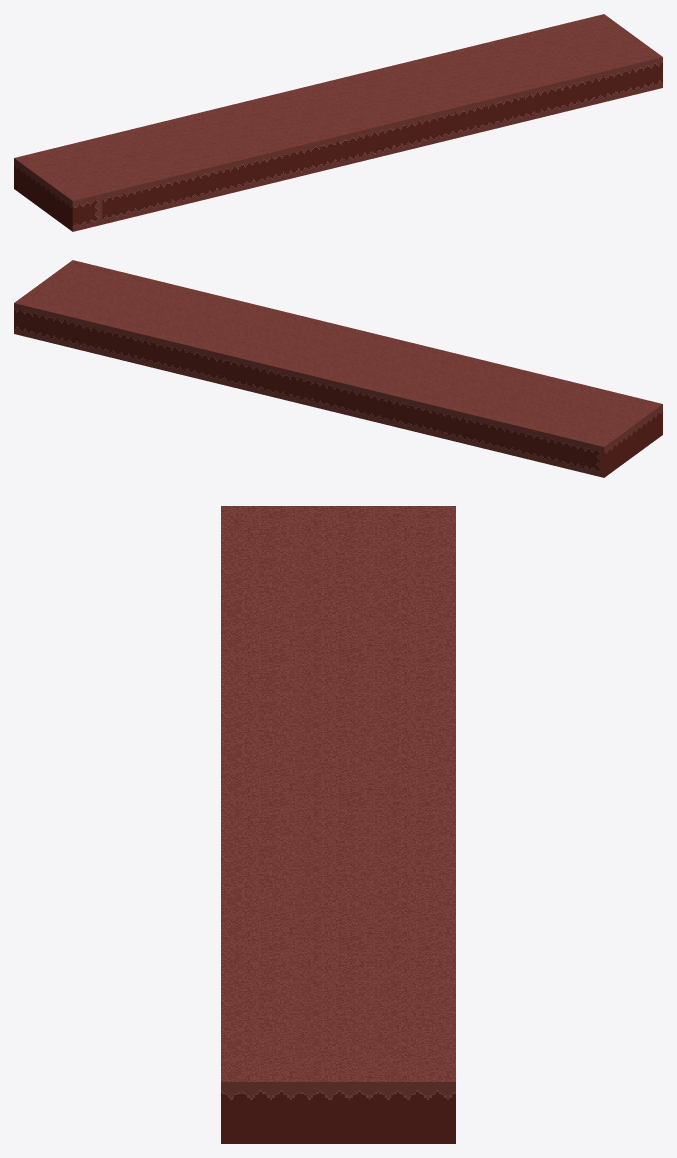
File: Luna5TransicaoSoloRev.glb
3 views of the same model, one above another, from view 1: azimuth 30°, elevation 25°; view 2: azimuth 150°, elevation 25°; view 3: azimuth 270°, elevation 25° (orthographic). The views are drawn at different scales.
Visible parts, largest first — view 1: Setor_0; view 2: Setor_0; view 3: Setor_0.
Part boxes in pixels (box(x1,y1,x2,y2)): Setor_0: box(14, 14, 662, 231); Setor_0: box(14, 260, 662, 477); Setor_0: box(221, 506, 455, 1143).
Size of the model in its own units: 25.5 by 1.27 by 4.4.
Materials: 1 (1 with a texture image).
